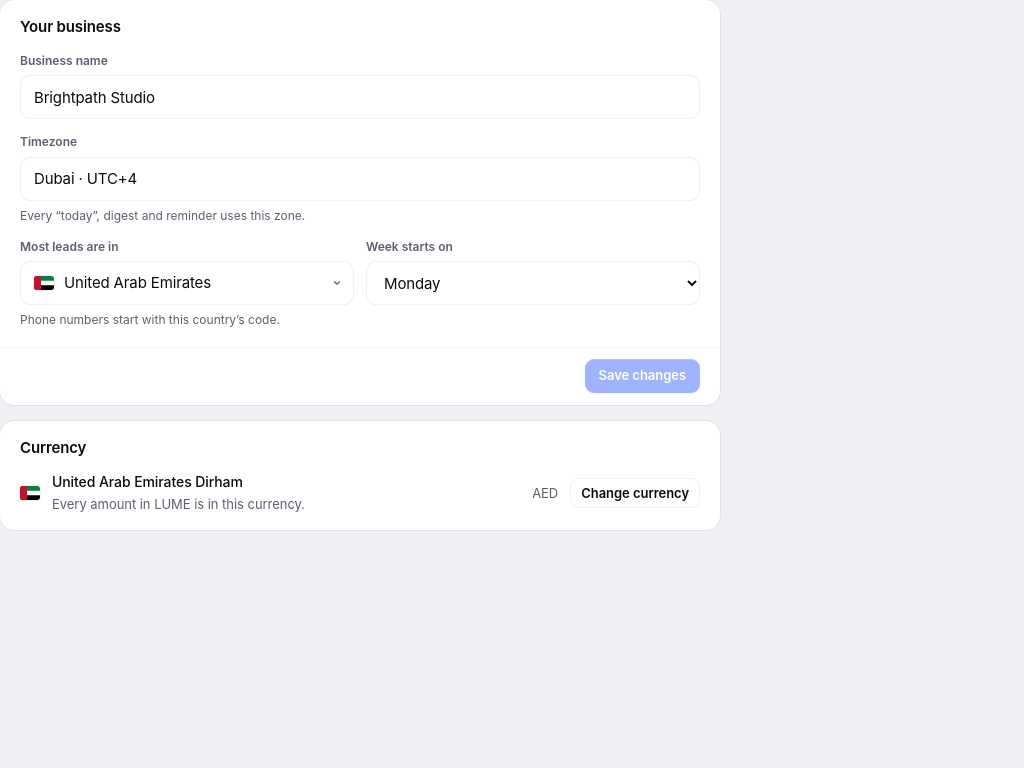
Scenario: BusinessForm › says access changed when a save is refused
Type " Co" into the field labelled "Business name" at (360, 97), box [20,75,700,119]
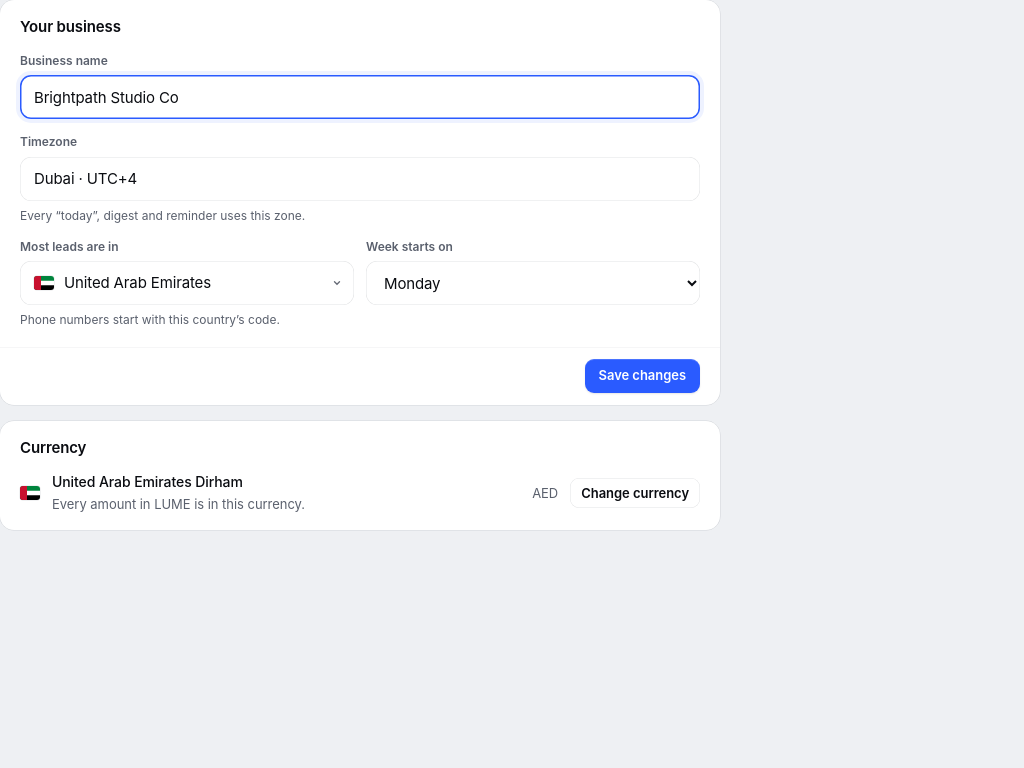
Click the button "Save changes" at (642, 376), box [584,359,700,393]
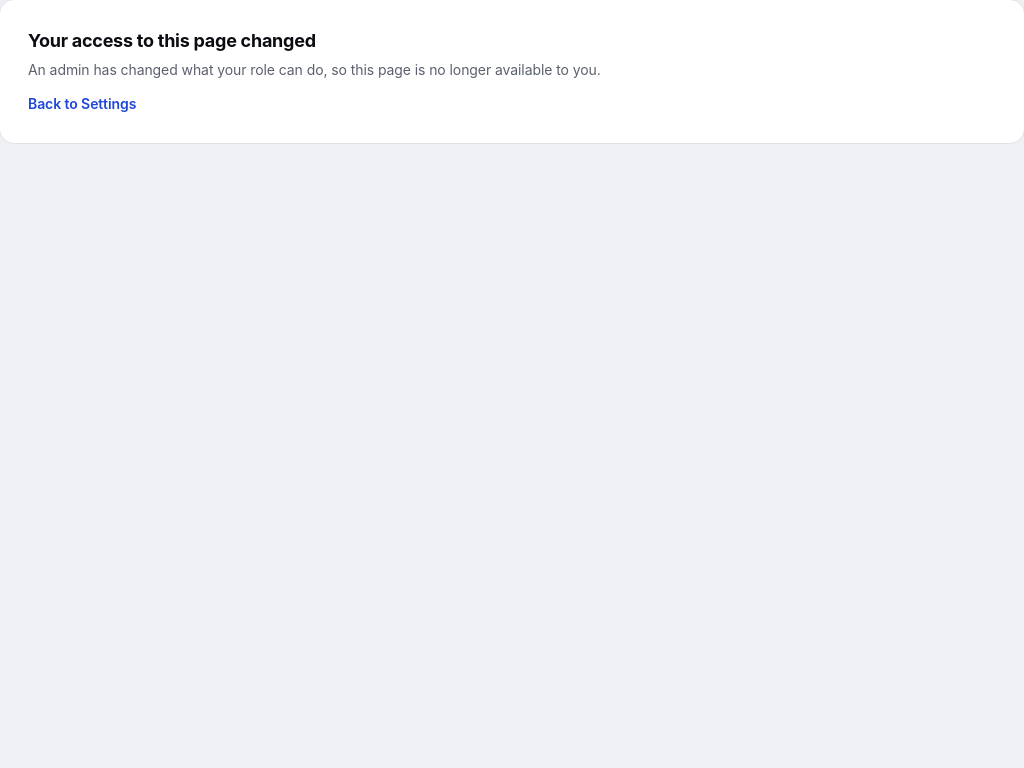
Now the heading "Your access to this page changed" is shown, box [28,30,316,51]
